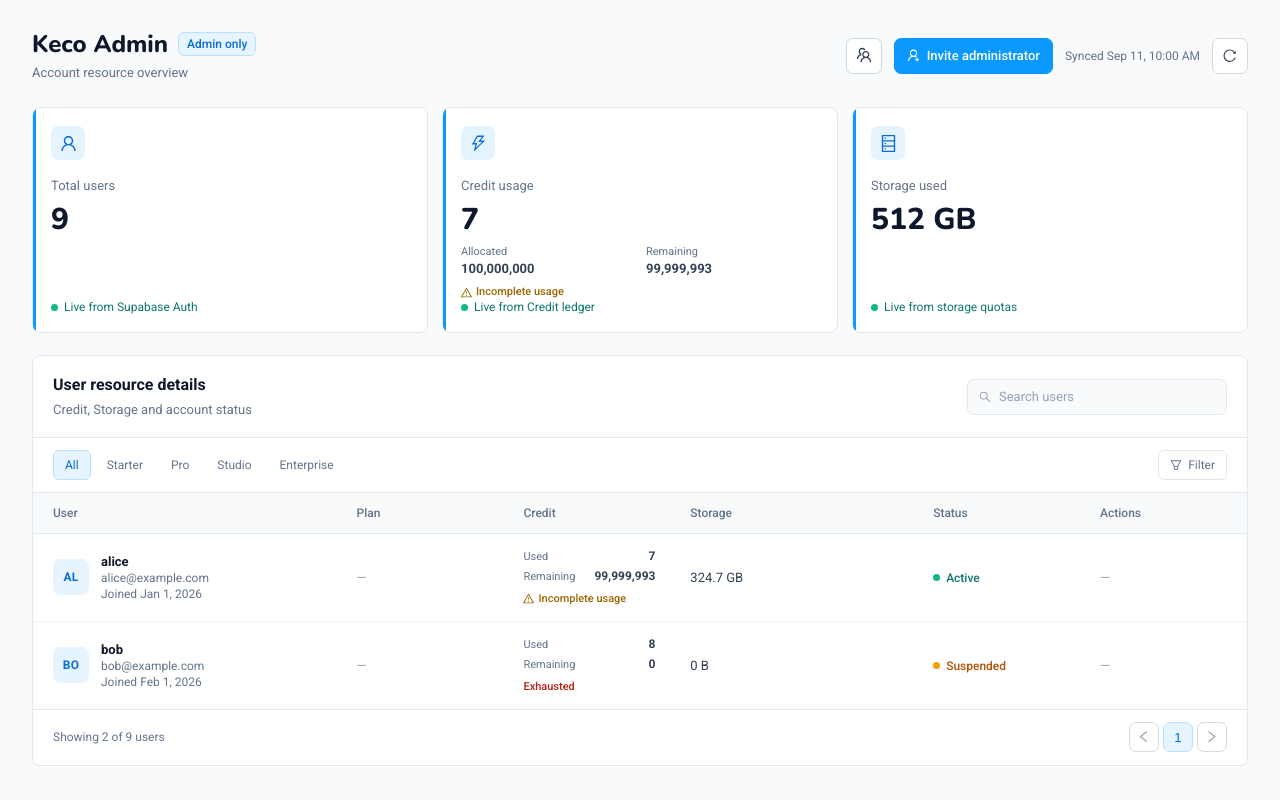
Scenario: Keco Admin dashboard › filters users by email search
Expected: the text "alice@example.com" is shown, [101,570,209,584]
Type "bob@" into the field labelled "Search users" at coordinates (1107, 396), box [999,389,1215,404]
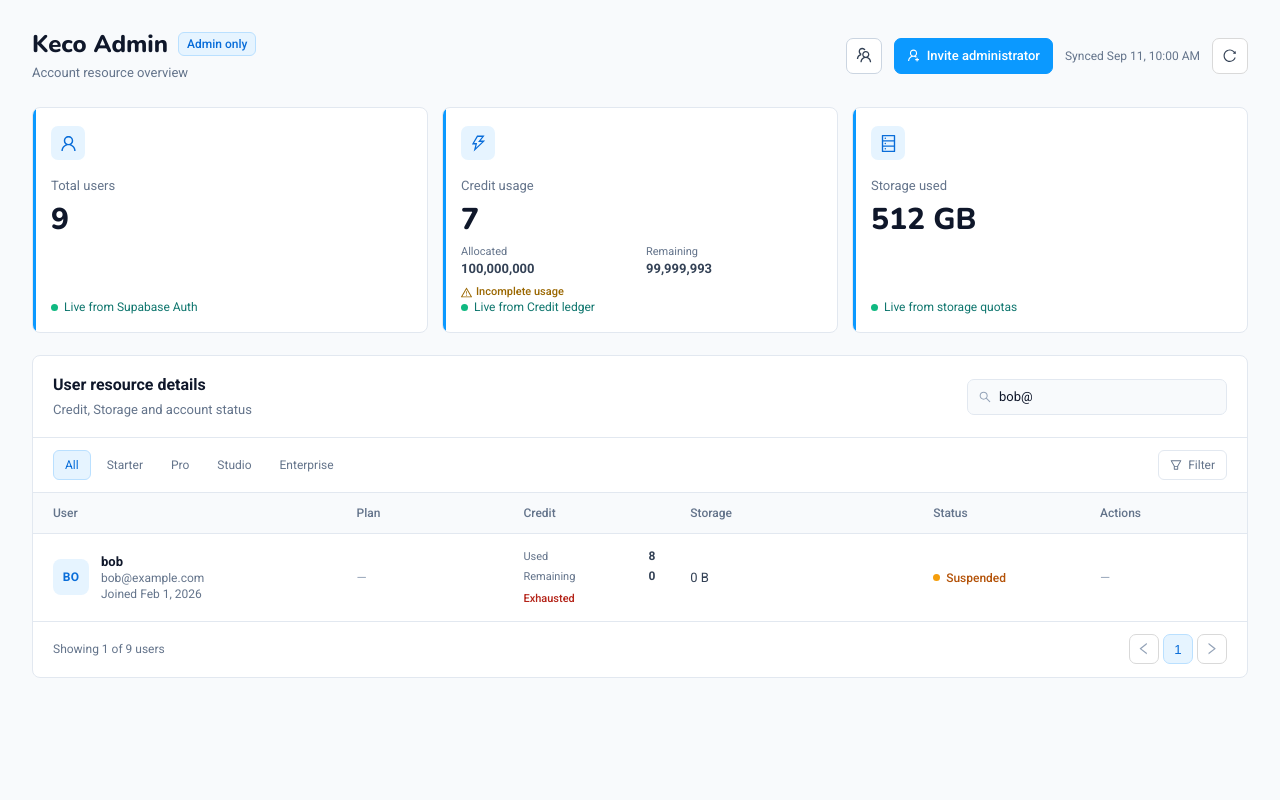
Expected: the text "bob@example.com" is shown, [101,570,204,584]
Result: the text "alice@example.com" is gone
Result: the text "Showing 1 of 9 users" is shown at [53,642,165,656]
